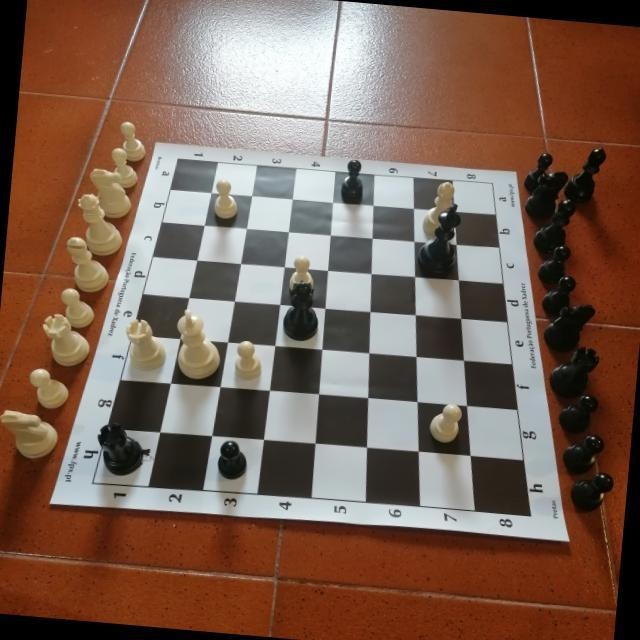black-bishop: (531, 194, 577, 258), (561, 143, 607, 205)
black-king: (414, 199, 463, 279)
black-knight: (540, 299, 596, 355), (522, 165, 569, 222)
black-pawn: (567, 468, 615, 515), (556, 391, 600, 437), (560, 432, 604, 476), (535, 242, 572, 286), (540, 272, 576, 315), (215, 438, 249, 482), (522, 150, 554, 194), (338, 157, 366, 202)
black-queen: (281, 278, 323, 342)
black-rook: (546, 343, 601, 401), (93, 421, 147, 479)
white-bishop: (61, 235, 113, 295), (420, 177, 458, 238)
white-king: (172, 306, 224, 381)
white-knight: (0, 406, 60, 461), (85, 167, 135, 220)
white-pawn: (26, 366, 70, 410), (57, 286, 97, 330), (427, 400, 463, 444), (116, 120, 149, 163), (107, 147, 140, 189), (232, 338, 263, 381), (287, 253, 317, 296), (212, 178, 240, 220)
white-queen: (72, 190, 127, 257)
white-rook: (38, 311, 94, 369), (121, 318, 169, 374)
